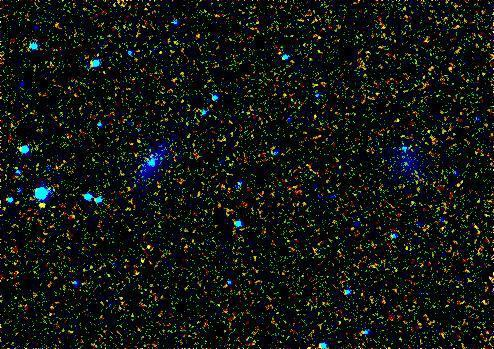star: (27, 189, 57, 219)
